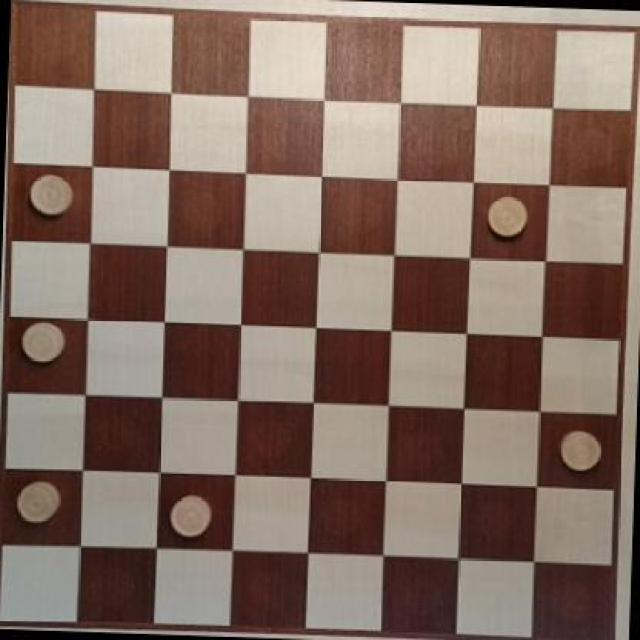BOARD: (0, 3, 618, 640)
white: (482, 190, 532, 249), (11, 474, 64, 529), (14, 319, 70, 371), (164, 491, 221, 542), (25, 170, 75, 221), (558, 423, 602, 475)
